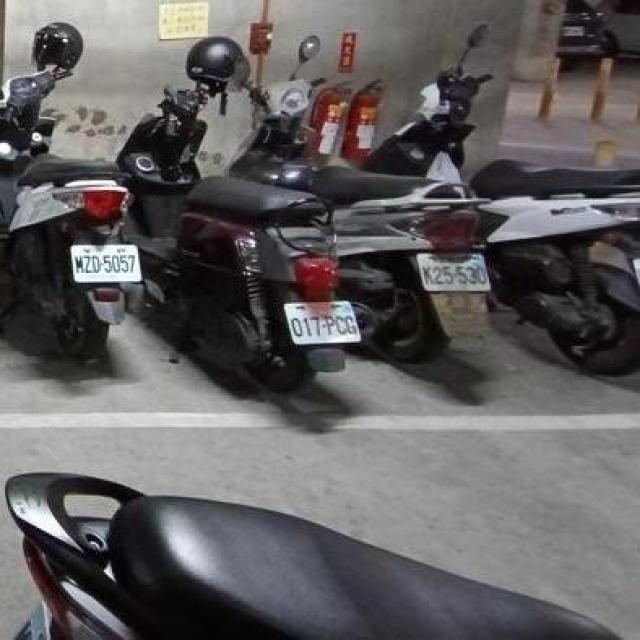W: (280, 291, 360, 351), (65, 235, 143, 288), (413, 245, 492, 296)
